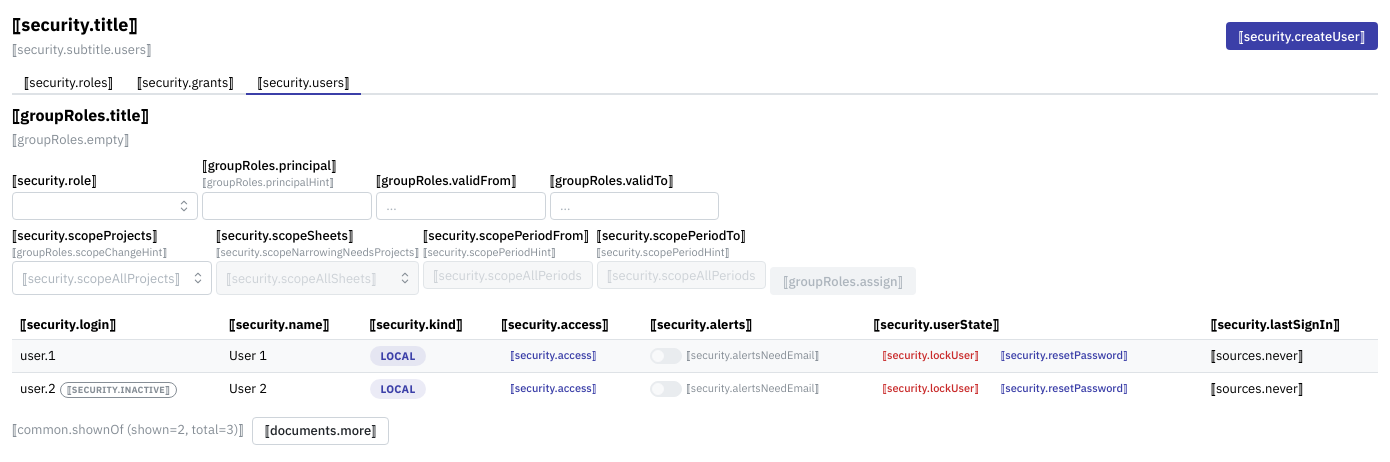
SecurityPage: перелік користувачів › X-07: є ще сторінка — сказано, скільки показано, і решту можна довантажити
Expected: the text "user.1" is shown, [12,339,221,372]
Expected: the text "⟦common.shownOf (shown=2, total=3)⟧" is shown, [12,421,244,440]
Click the button "⟦documents.more⟧" at [321, 430], box [252,416,389,444]
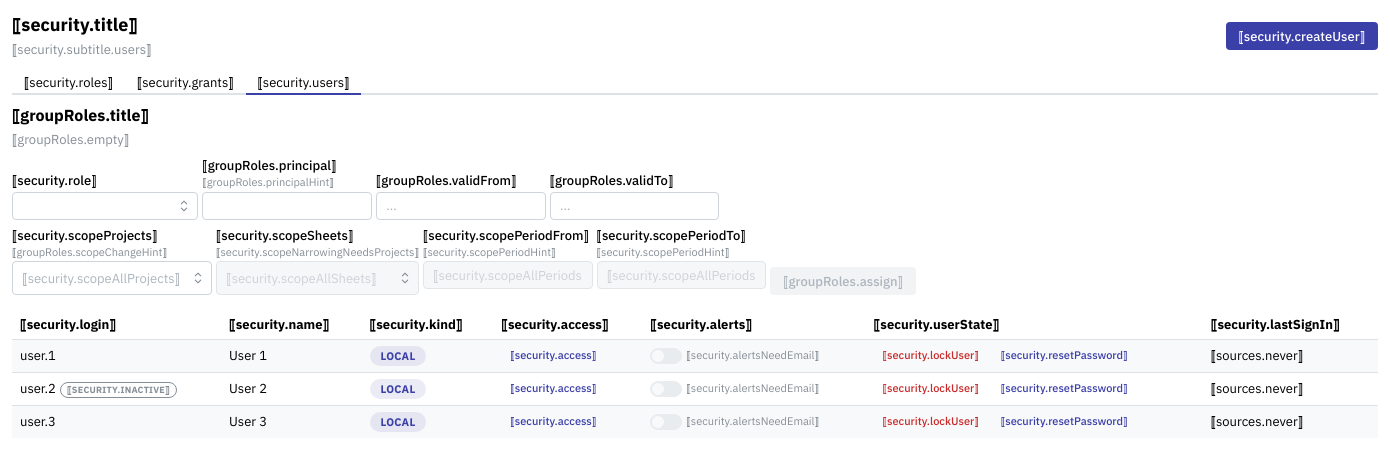
Now the text "user.3" is shown, box [12,405,221,438]
Now the button "⟦documents.more⟧" is gone
